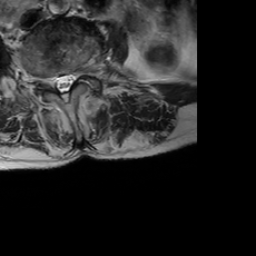CCS_normal: (60, 66, 67, 112)
LFS_normal: (75, 60, 84, 86)
LLS_normal: (67, 64, 75, 91)
RFS_stenosis: (44, 67, 53, 94)
RLS_normal: (53, 65, 61, 97)
